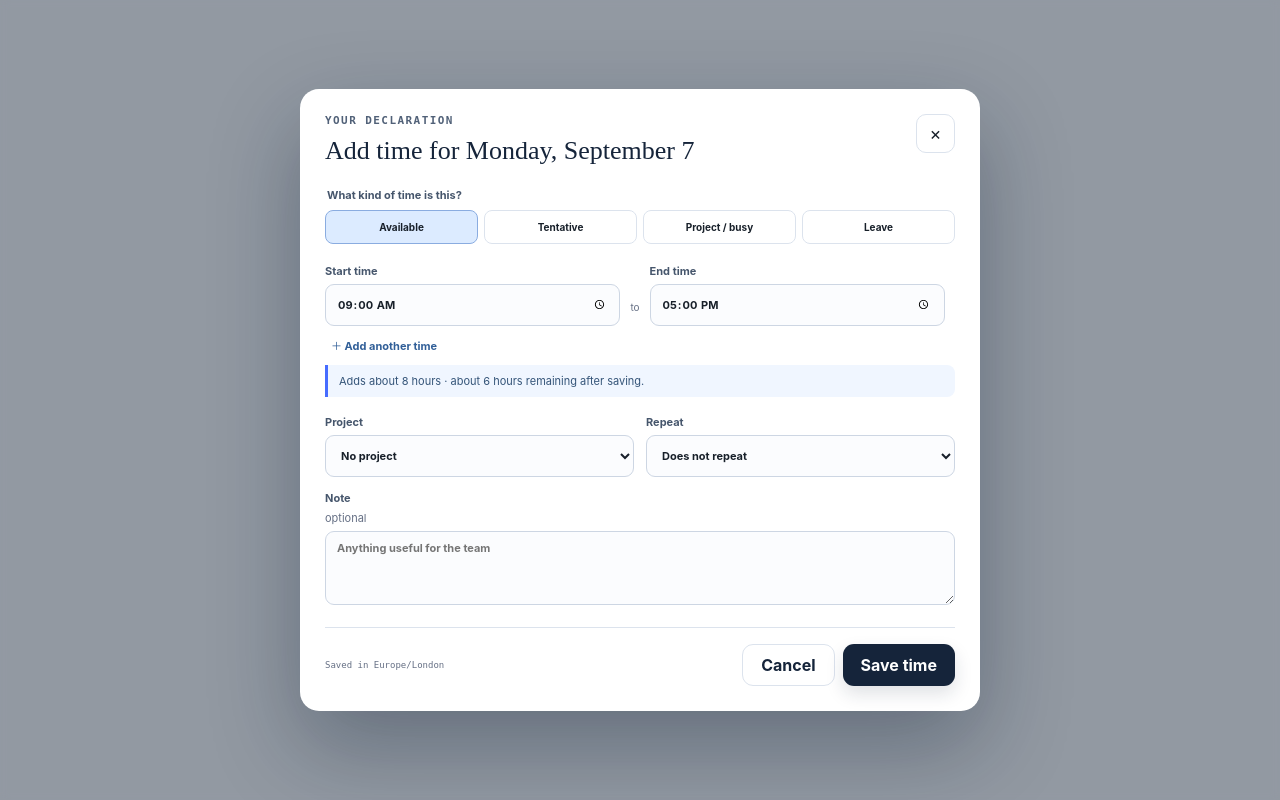
Test: member interface › does not partially save when a split range is incomplete
Click the button "＋ Add another time" at (384, 345), box [325,336,443,354]
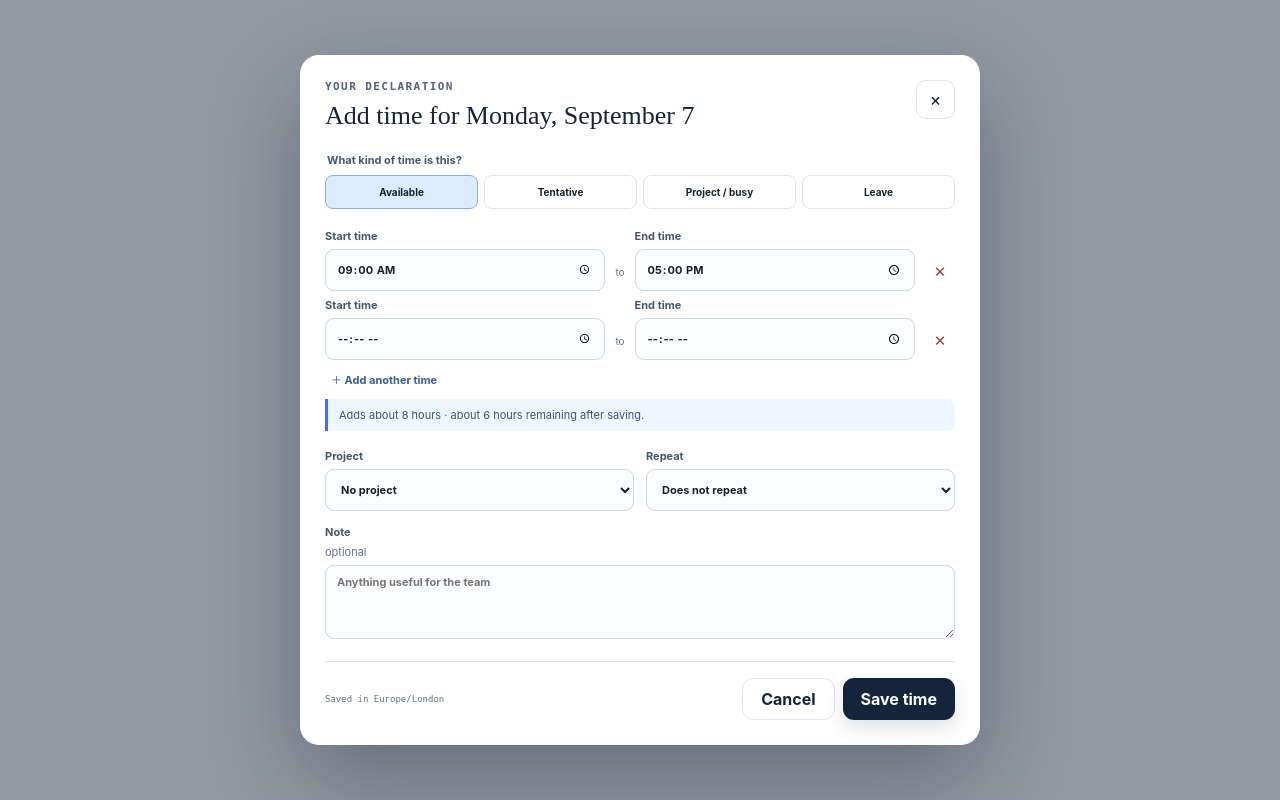
Submit the form, box [325,153,955,720]
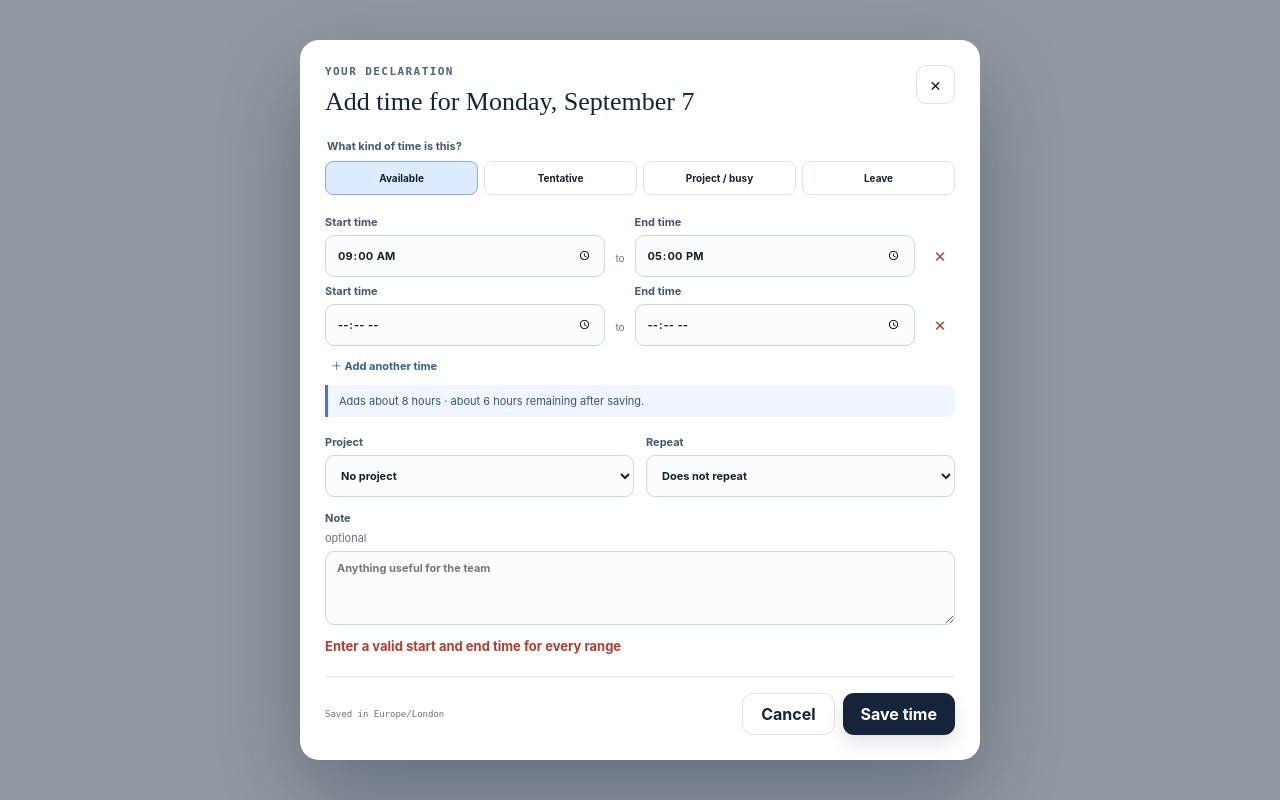
Check: the message shows "every range", box [325,638,621,654]
